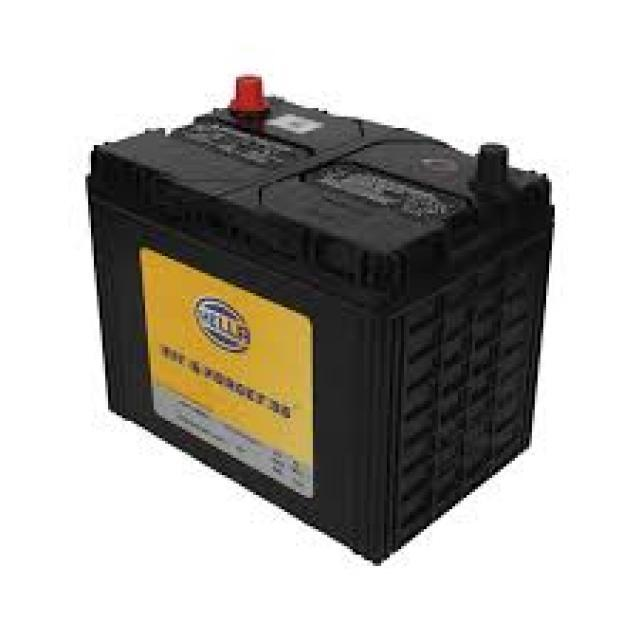battery: (89, 76, 556, 564)
